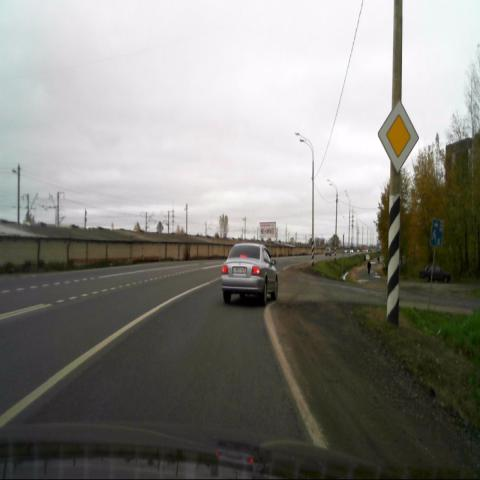5_21: (430, 219, 444, 248)
